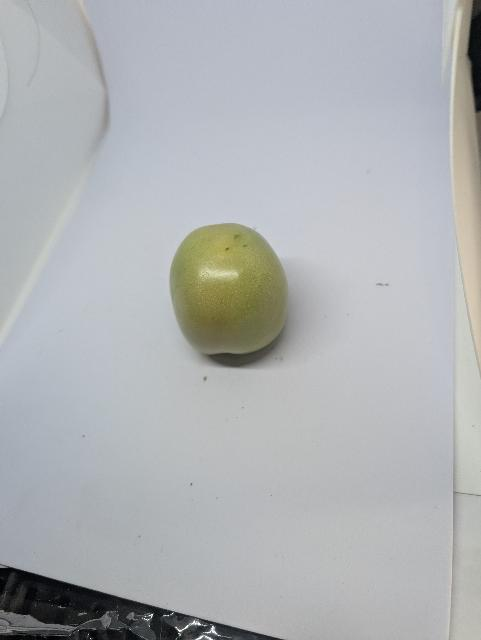green: (168, 222, 289, 358)
